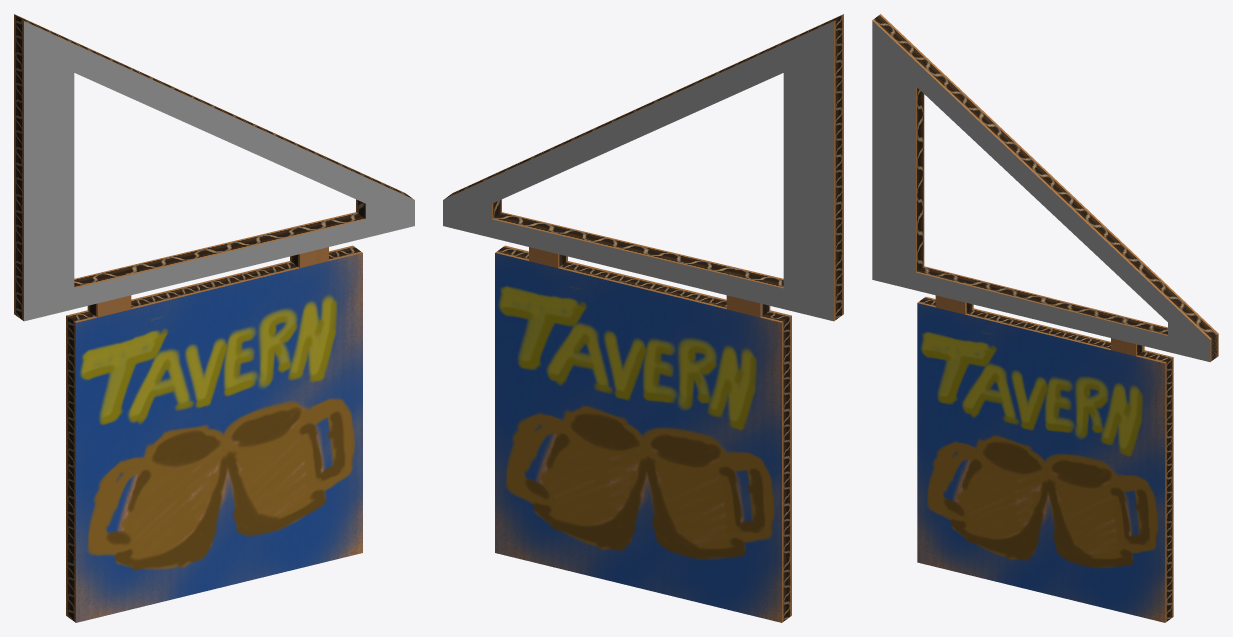
File: TavernHangingSign.fbx
3 views of the same model, side by side, from view 1: azimuth 30°, elevation 25°; view 2: azimuth 150°, elevation 25°; view 3: azimuth 330°, elevation 25° (orthographic). The views are drawn at different scales.
Parts seen in each view (by area): view 1: pCube15, pCube14; view 2: pCube15, pCube14; view 3: pCube15, pCube14.
Part boxes in pixels (x1,y1,x2,y2): pCube15: (66,245,362,622); pCube14: (14,14,414,321); pCube15: (495,245,791,622); pCube14: (443,14,843,321); pCube15: (917,297,1173,622); pCube14: (872,14,1218,361).
Size of the model in its own units: 1.05 by 1.57 by 0.0461.
